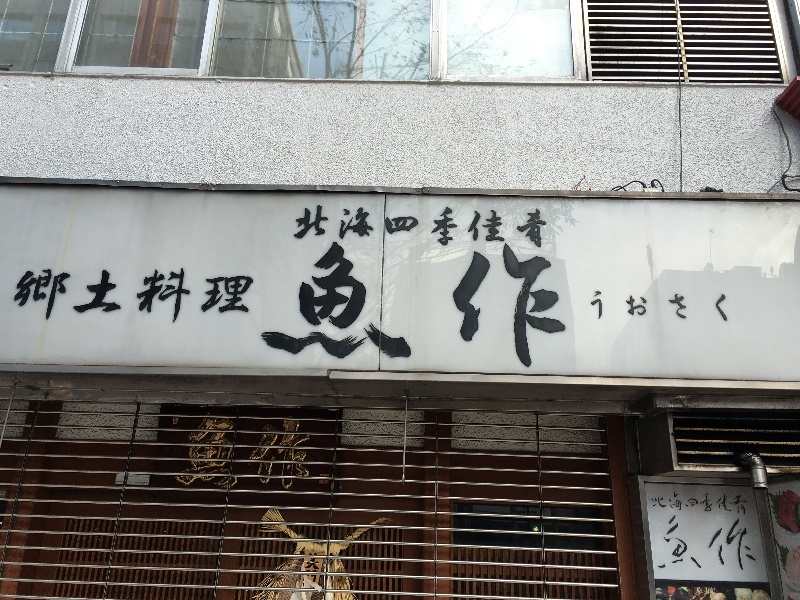text: (337, 238, 352, 373), (353, 238, 368, 373), (369, 238, 384, 373), (385, 238, 400, 373), (401, 238, 416, 373), (417, 238, 432, 373), (433, 238, 448, 373), (449, 238, 464, 373), (465, 238, 480, 373), (481, 238, 496, 373), (497, 238, 512, 373), (513, 238, 528, 373), (529, 238, 544, 373), (545, 238, 560, 373), (561, 238, 575, 373), (209, 417, 224, 492), (225, 417, 240, 492), (241, 417, 256, 492), (257, 417, 272, 492), (273, 417, 288, 492), (289, 417, 304, 492), (241, 264, 257, 329), (673, 511, 688, 579), (689, 511, 704, 579), (705, 511, 720, 579), (721, 511, 736, 579), (737, 511, 752, 579), (33, 264, 48, 329), (49, 264, 64, 329), (65, 264, 80, 329), (81, 264, 96, 329), (97, 264, 112, 329), (113, 264, 128, 329), (129, 264, 144, 329), (145, 264, 160, 329), (161, 264, 176, 329), (177, 264, 192, 329), (193, 264, 208, 329), (209, 264, 224, 329), (225, 264, 240, 329), (753, 511, 766, 579), (19, 264, 32, 329), (199, 417, 208, 492), (305, 205, 320, 248), (321, 205, 336, 248), (337, 205, 352, 248), (353, 205, 368, 248), (369, 205, 384, 248), (385, 205, 400, 248), (401, 205, 416, 248), (417, 205, 432, 248), (433, 205, 448, 248), (449, 205, 464, 248), (465, 205, 480, 248), (481, 205, 496, 248), (497, 205, 512, 248), (513, 205, 528, 248), (529, 205, 544, 248), (305, 417, 313, 492), (593, 290, 608, 324), (609, 290, 624, 324), (625, 290, 640, 324), (641, 290, 656, 324), (657, 290, 672, 324), (673, 290, 688, 324), (689, 290, 704, 324), (705, 290, 720, 324), (307, 554, 320, 593), (665, 511, 672, 579), (657, 491, 672, 519), (673, 491, 688, 519), (689, 491, 704, 519), (705, 491, 720, 519), (721, 491, 736, 519), (721, 290, 733, 324), (295, 205, 304, 248), (737, 491, 750, 519), (545, 205, 551, 248), (651, 491, 656, 519), (335, 238, 336, 373), (321, 554, 324, 593), (590, 290, 592, 324)
